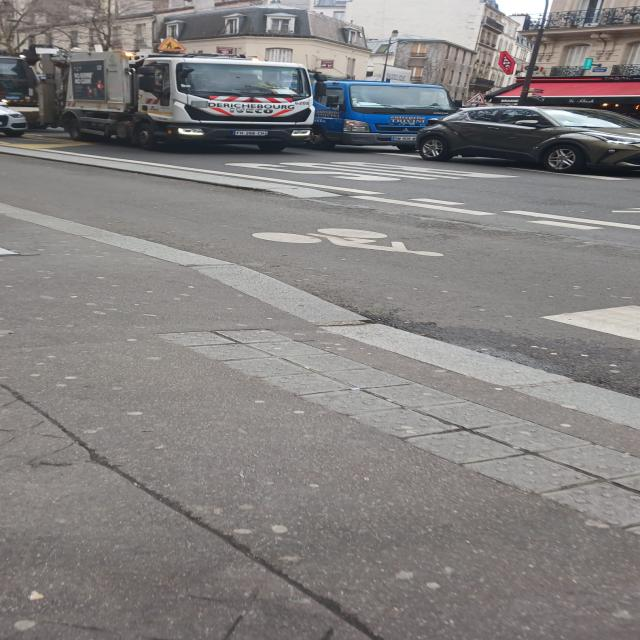Autre: (391, 136, 418, 141)
EU: (232, 131, 270, 135)
France: (231, 130, 236, 136)
